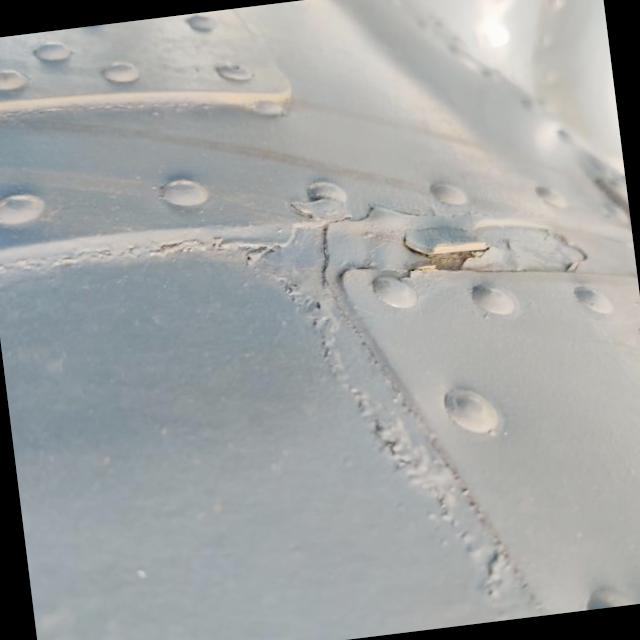crack: (372, 202, 508, 296)
